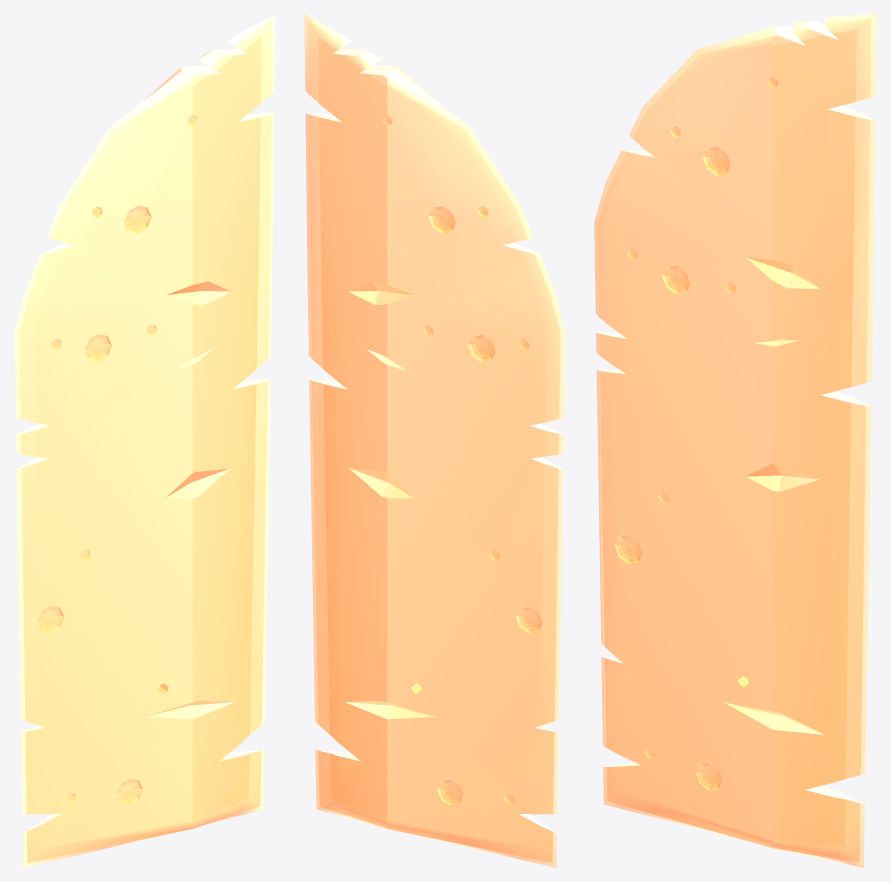
File: wood_blade_bubbles_075.glb
3 views of the same model, side by side, from view 1: azimuth 30°, elevation 25°; view 2: azimuth 150°, elevation 25°; view 3: azimuth 330°, elevation 25° (orthographic). The views are drawn at different scales.
Parts seen in each view (by area): view 1: wood_blade_bubbles.075; view 2: wood_blade_bubbles.075; view 3: wood_blade_bubbles.075.
Boxes of the visible parts, <box> form: wood_blade_bubbles.075: <box>14,14,275,867</box>; wood_blade_bubbles.075: <box>304,14,565,867</box>; wood_blade_bubbles.075: <box>594,14,876,867</box>.
Size of the model in its own units: 4.15 by 12.06 by 0.3631.
1 material, 1 textured.
